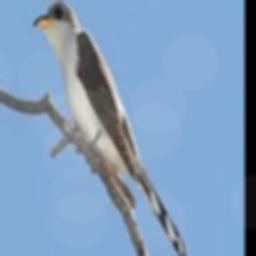Cuckoo: (34, 0, 187, 256)
